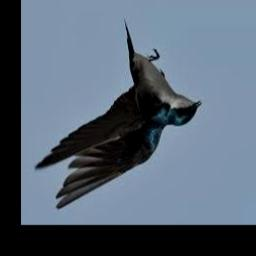Swallow: (35, 20, 200, 211)
